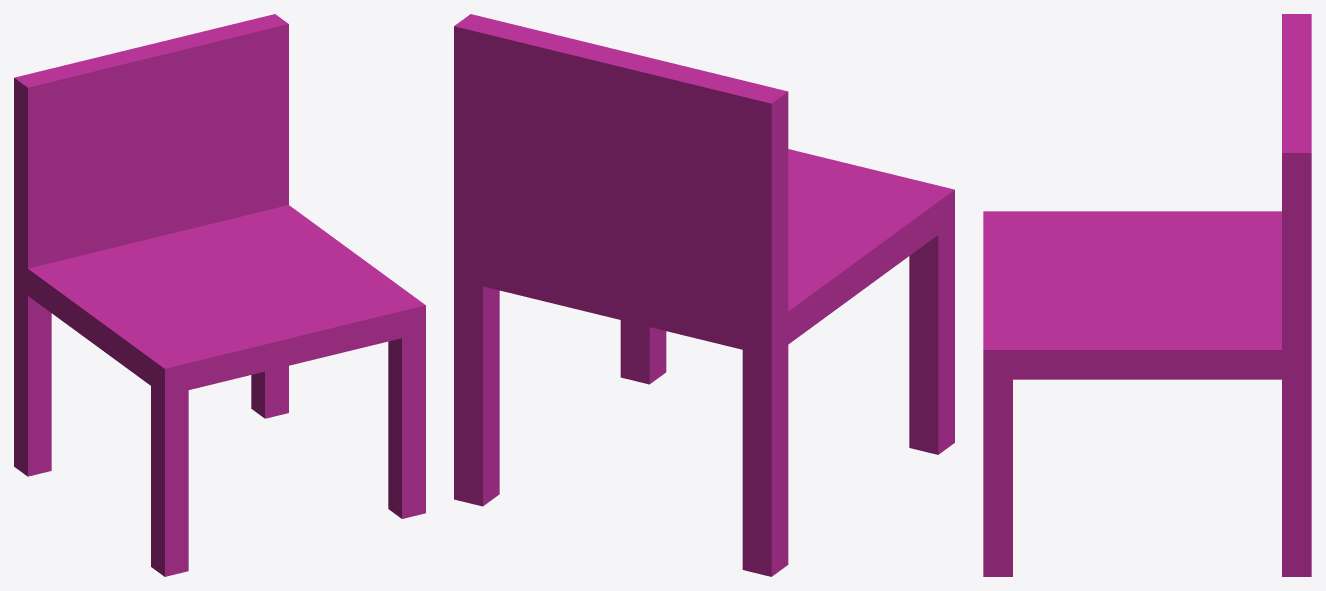
File: chair3.gltf
The picture shows the model from 3 angles, left to right: view 1: azimuth 30°, elevation 25°; view 2: azimuth 150°, elevation 25°; view 3: azimuth 270°, elevation 25°; orthographic projection. The views are drawn at different scales.
Parts seen in each view (by area): view 1: Mesh_Mesh_head_geo.001_lambert2SG.001; view 2: Mesh_Mesh_head_geo.001_lambert2SG.001; view 3: Mesh_Mesh_head_geo.001_lambert2SG.001.
Part boxes in pixels (<box>): Mesh_Mesh_head_geo.001_lambert2SG.001: <box>14,14,425,576</box>; Mesh_Mesh_head_geo.001_lambert2SG.001: <box>454,14,954,576</box>; Mesh_Mesh_head_geo.001_lambert2SG.001: <box>983,14,1311,576</box>.
Size of the model in its own units: 33 by 47 by 33.
